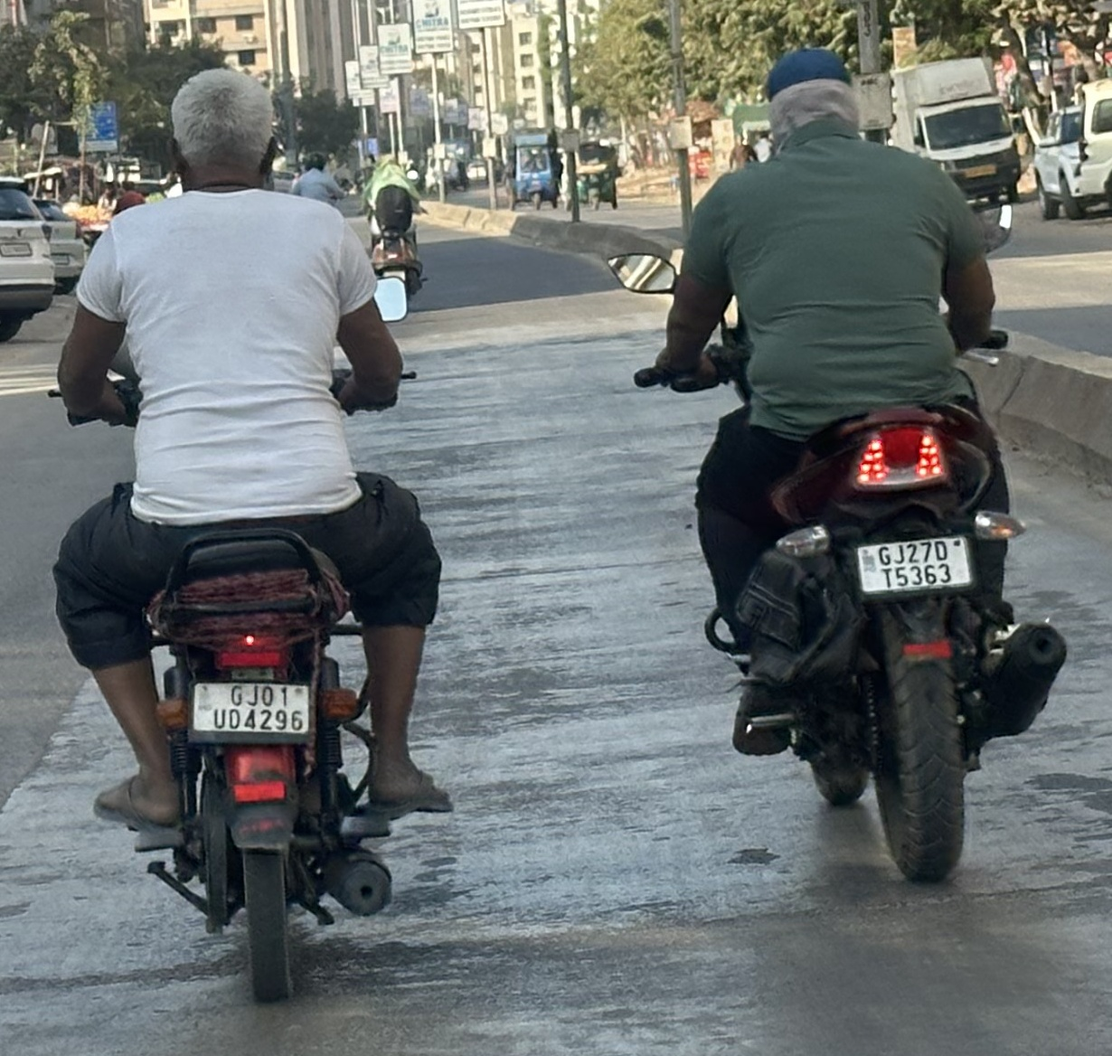BikeWithRider: (603, 41, 1072, 900), (44, 59, 464, 1015), (364, 144, 424, 297)
NoHelmet: (163, 63, 280, 198), (760, 41, 865, 166)
